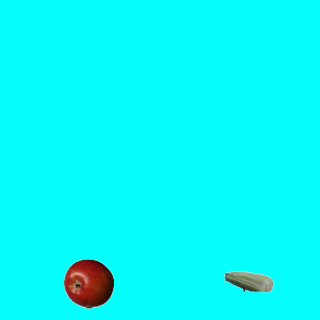Apple Braeburn: (63, 258, 113, 308)
Corn Husk: (223, 256, 273, 306)
